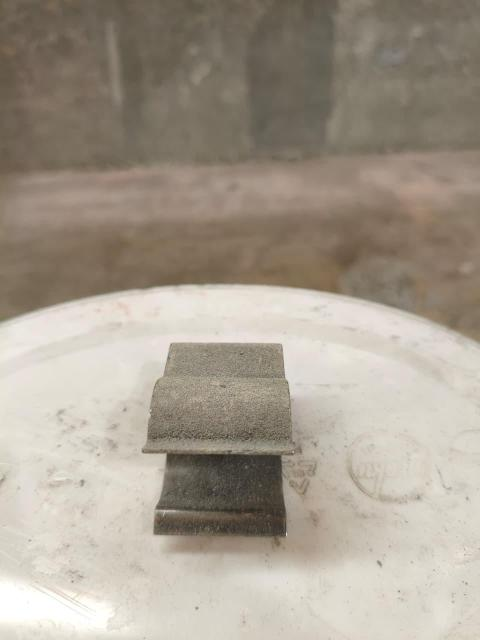Metal: (137, 337, 295, 545)
